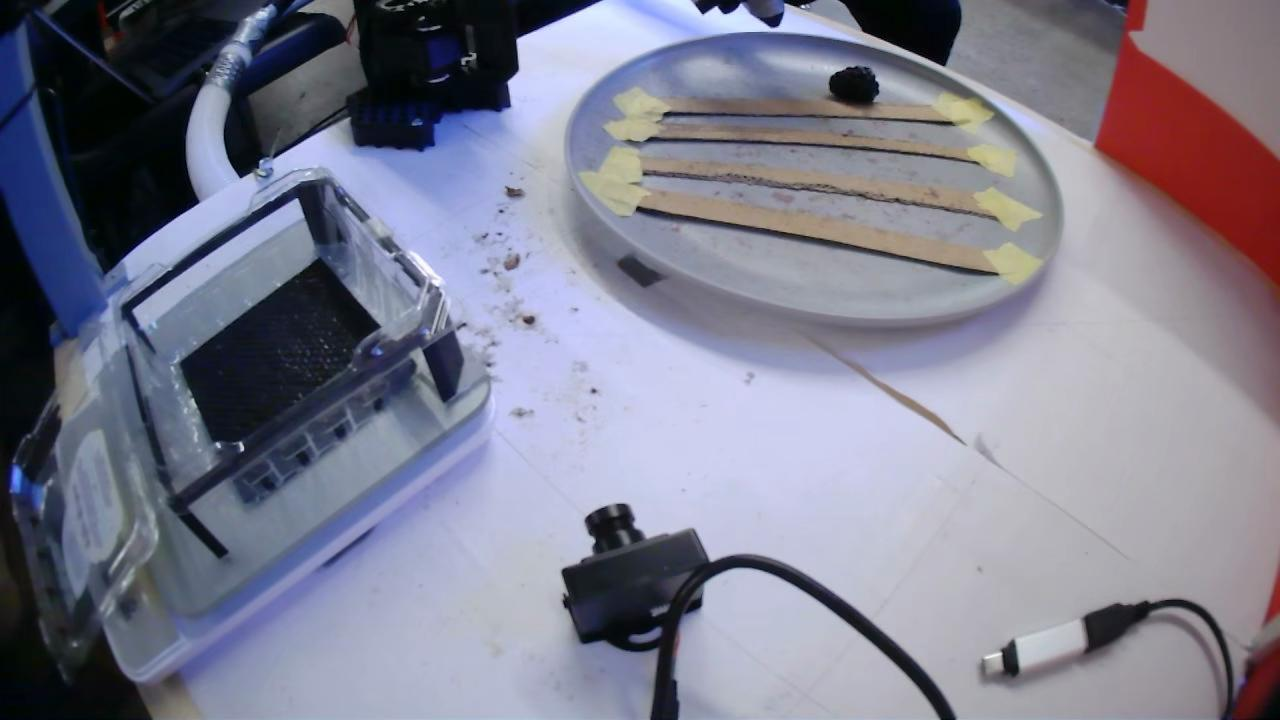berry: (829, 67, 879, 103)
